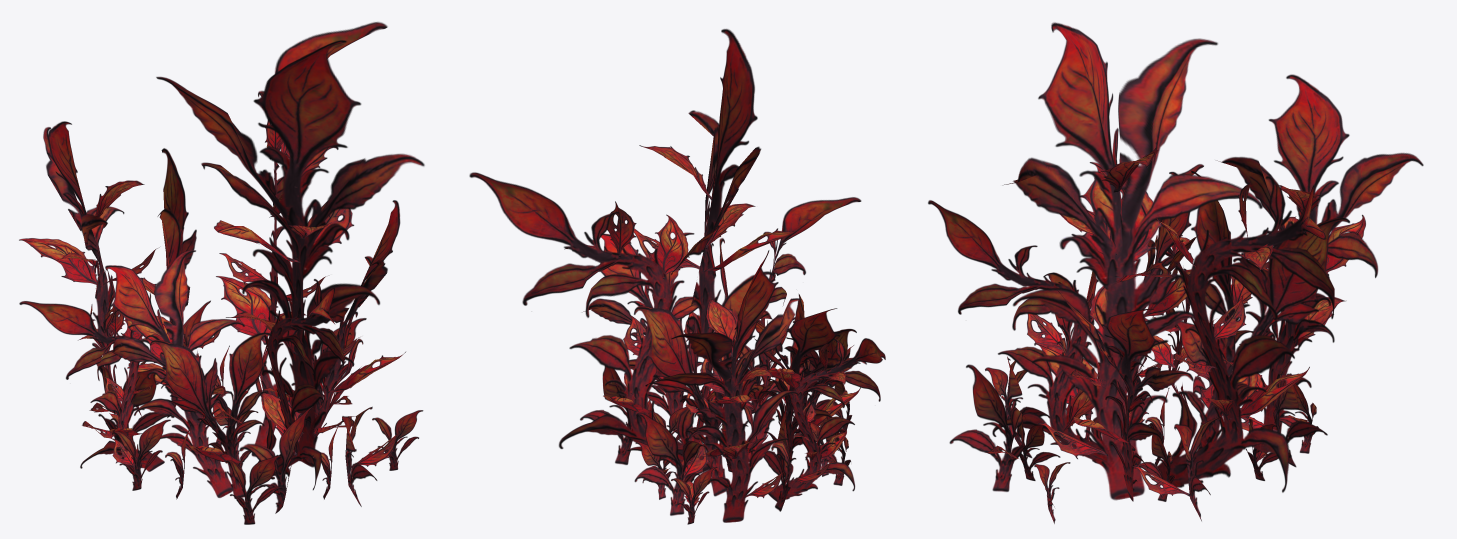
Rendered from scarlet-plant.glb.
The picture shows the model from 3 angles, left to right: view 1: azimuth 30°, elevation 25°; view 2: azimuth 150°, elevation 25°; view 3: azimuth 270°, elevation 25°; orthographic projection. The views are drawn at different scales.
Visible parts, largest first — view 1: scarlet-plant; view 2: scarlet-plant; view 3: scarlet-plant.
Boxes of the visible parts, x1,y1,x2,y2 form: scarlet-plant: [19, 22, 424, 524]; scarlet-plant: [469, 29, 885, 524]; scarlet-plant: [928, 22, 1423, 523].
Size of the model in its own units: 1.51 by 1.59 by 1.5.
1 material, 1 textured.
